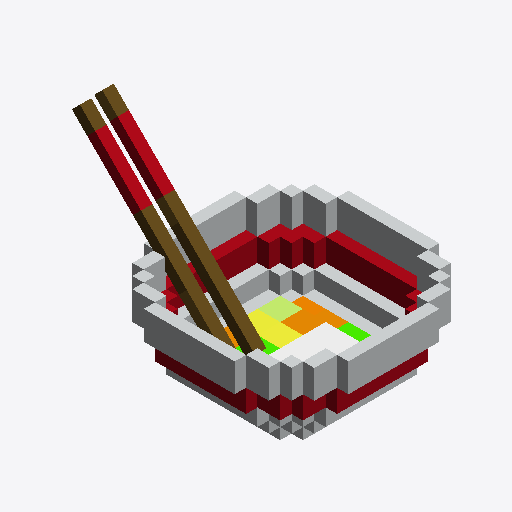
A Minecraft block model of 64 cuboids, rendered isometrically (azimuth 45°, elevation 35.3°) with the resource pack's own textures.
Visible parts, largest first — element 63, element 64, element 9, element 58, element 60, element 59, element 15, element 14, element 10, element 5, element 8, element 57 (+22 smaller).
Boxes of the visible parts, <box> form: element 63: <box>95,84,265,354</box>; element 64: <box>72,99,235,348</box>; element 9: <box>337,303,438,393</box>; element 58: <box>144,303,245,393</box>; element 60: <box>224,296,358,360</box>; element 59: <box>337,191,438,275</box>; element 15: <box>326,230,416,307</box>; element 14: <box>314,263,404,328</box>; element 10: <box>144,191,245,275</box>; element 5: <box>166,230,256,307</box>; element 8: <box>326,349,427,413</box>; element 57: <box>155,349,256,413</box>.
Size of the model in its own units: 9 by 7.96 by 12.13.